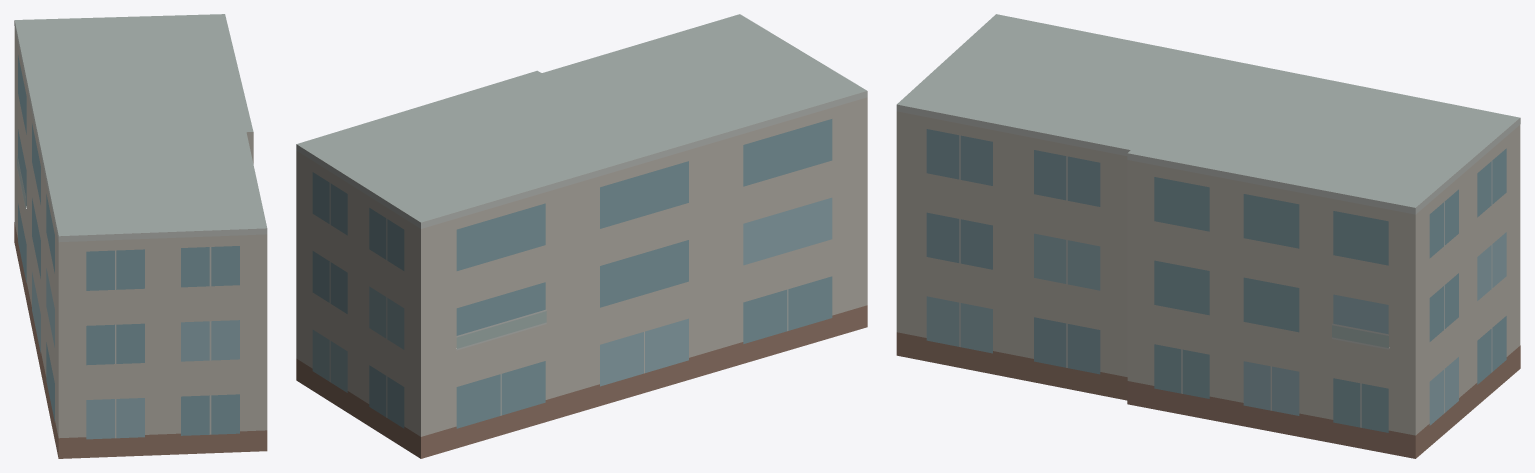
File: survey-upis-33035584.glb
3 renders of one model, left to right at view 1: azimuth 30°, elevation 25°; view 2: azimuth 150°, elevation 25°; view 3: azimuth 270°, elevation 25°, orthographic. The views are drawn at different scales.
Parts seen in each view (by area): view 1: survey-upis-33035584.tmp; view 2: survey-upis-33035584.tmp; view 3: survey-upis-33035584.tmp.
Part boxes in pixels (box(x1,y1,x2,y2)): survey-upis-33035584.tmp: box(14, 14, 267, 458); survey-upis-33035584.tmp: box(296, 14, 867, 458); survey-upis-33035584.tmp: box(896, 14, 1520, 458).
Size of the model in its own units: 15 by 9.05 by 20.39.
